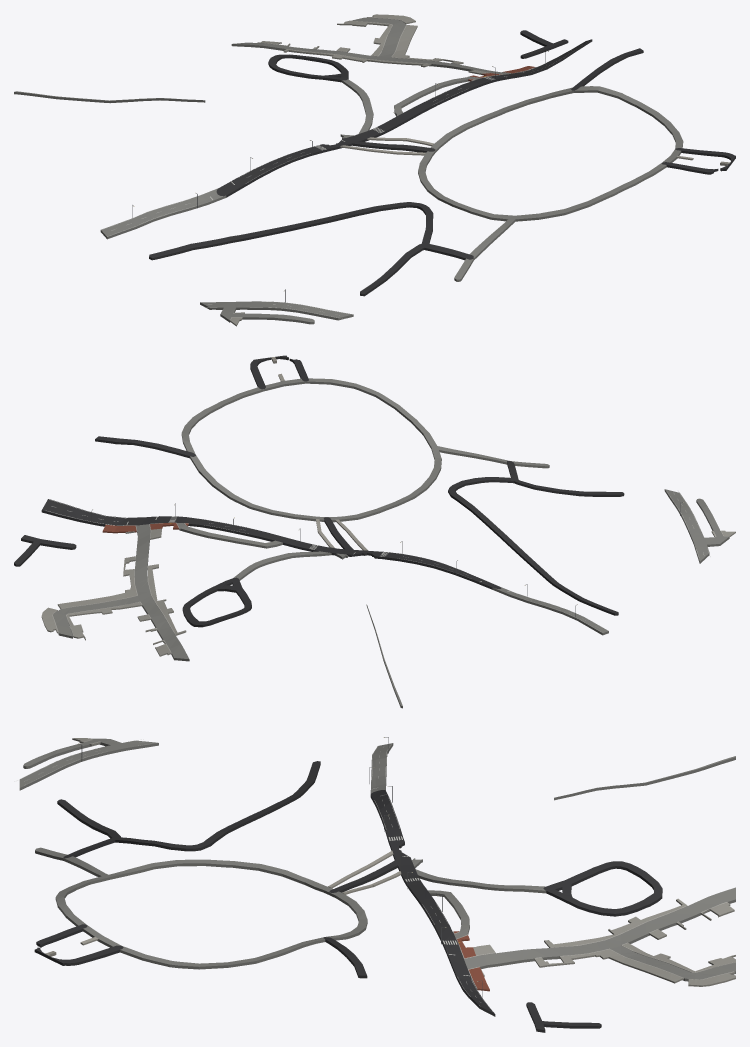
3 renders of one model, top to bottom at view 1: azimuth 30°, elevation 25°; view 2: azimuth 150°, elevation 25°; view 3: azimuth 270°, elevation 25°, orthographic. The views are drawn at different scales.
Size of the model in its own units: 296 by 38.16 by 294.
